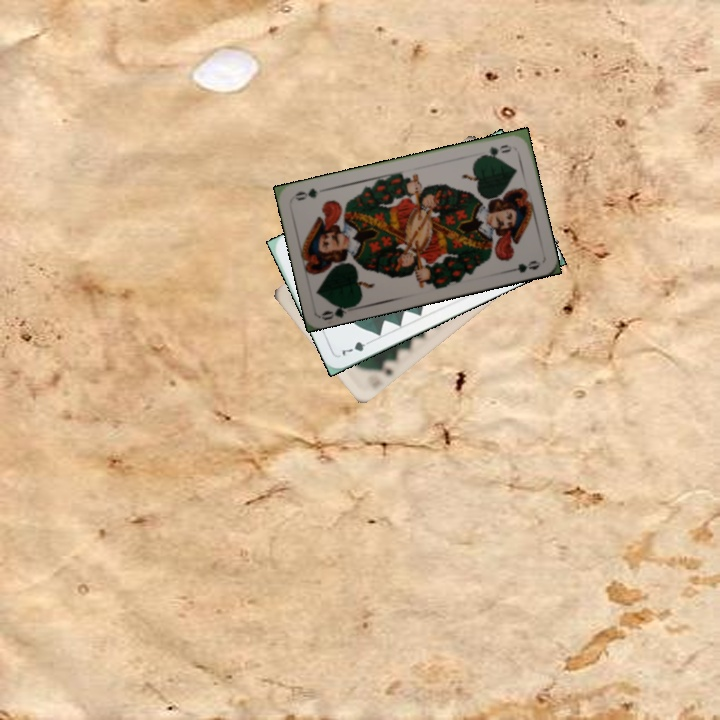G10: (372, 356, 395, 378)
G7: (338, 336, 376, 359)
GO: (319, 300, 358, 323), (476, 141, 515, 160)
